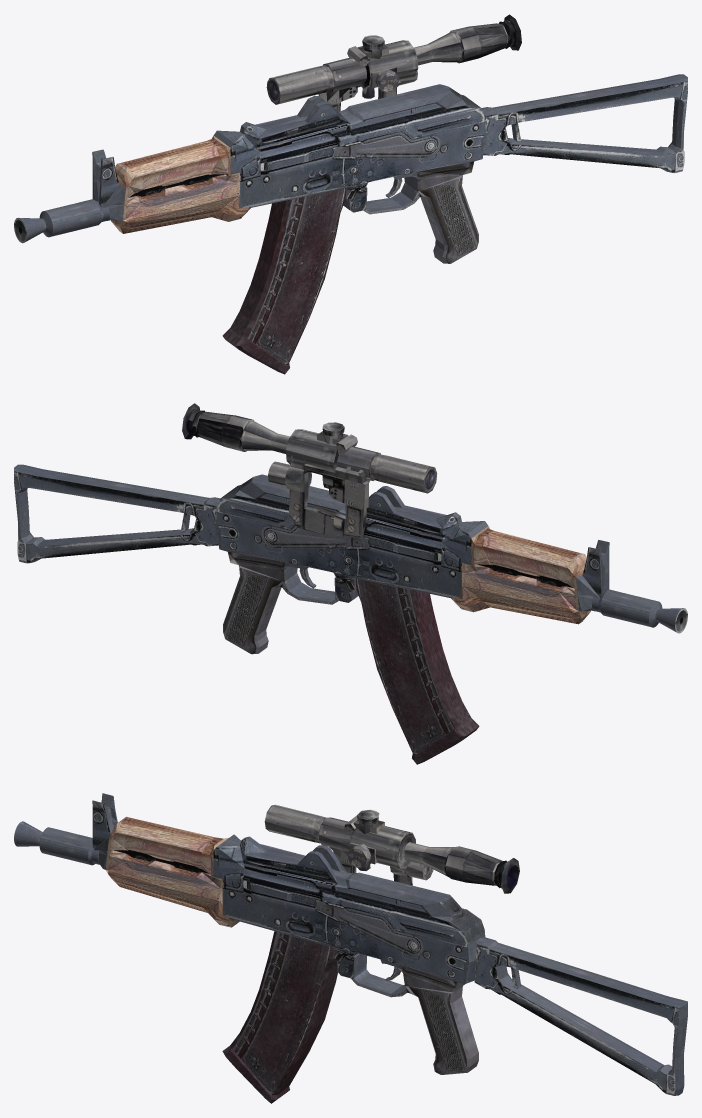
File: w_aks74u_pso.obj
The picture shows the model from 3 angles, top to bottom: view 1: azimuth 30°, elevation 25°; view 2: azimuth 150°, elevation 25°; view 3: azimuth 330°, elevation 25°; orthographic projection.
Parts seen in each view (by area): view 1: w_aks74u_Plane, W_Pso1; view 2: w_aks74u_Plane, W_Pso1; view 3: w_aks74u_Plane, W_Pso1.
Boxes of the visible parts, bbox=[...] form: w_aks74u_Plane: bbox=[14, 74, 687, 374]; W_Pso1: bbox=[266, 14, 521, 111]; w_aks74u_Plane: bbox=[14, 464, 687, 764]; W_Pso1: bbox=[182, 403, 437, 538]; w_aks74u_Plane: bbox=[14, 793, 687, 1103]; W_Pso1: bbox=[264, 804, 519, 893].
Bounding box in the file's own units: 11.19 × 4.96 × 0.8935.
